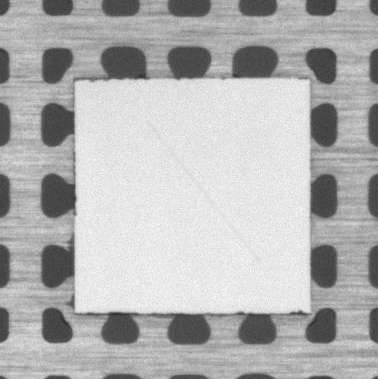DIE_CRACK: (147, 121, 259, 263)
